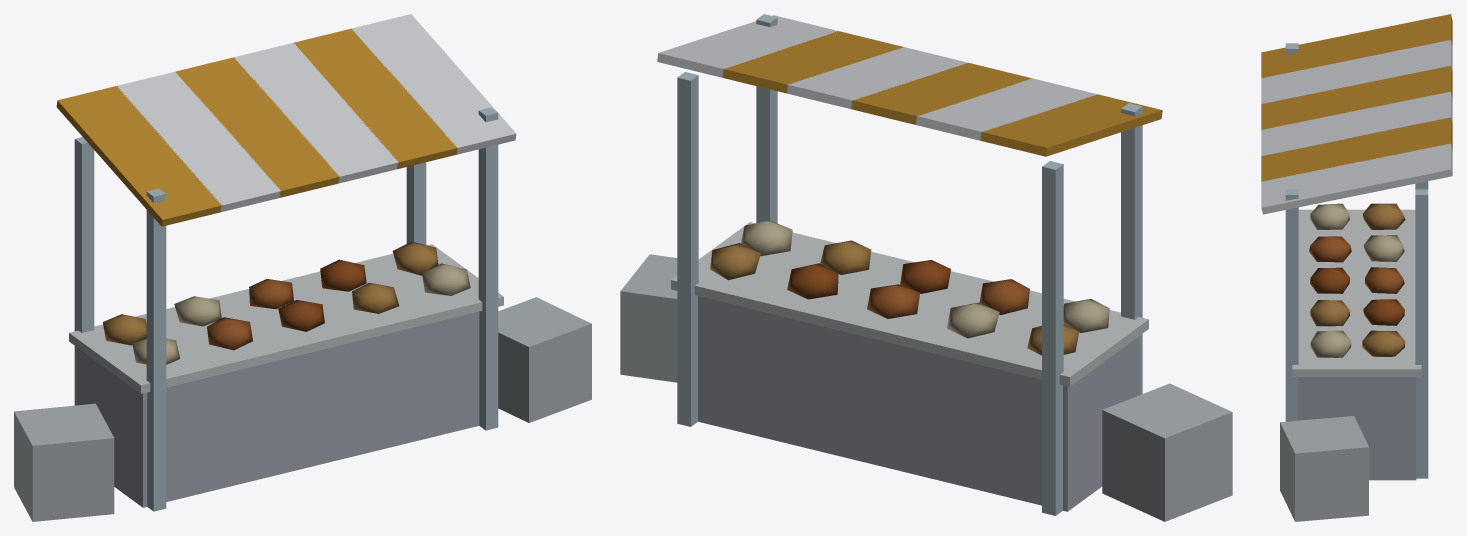
File: stall_bread.glb
3 views of the same model, side by side, from view 1: azimuth 30°, elevation 25°; view 2: azimuth 150°, elevation 25°; view 3: azimuth 270°, elevation 25° (orthographic). The views are drawn at different scales.
Visible parts, largest first — view 1: stall_bread; view 2: stall_bread; view 3: stall_bread.
Boxes of the visible parts, box(x1,y1,x2,y2) form: stall_bread: box(14, 14, 591, 521); stall_bread: box(620, 14, 1232, 521); stall_bread: box(1261, 14, 1452, 521).
Bounding box in the file's own units: 5.25 × 3.18 × 1.77.
